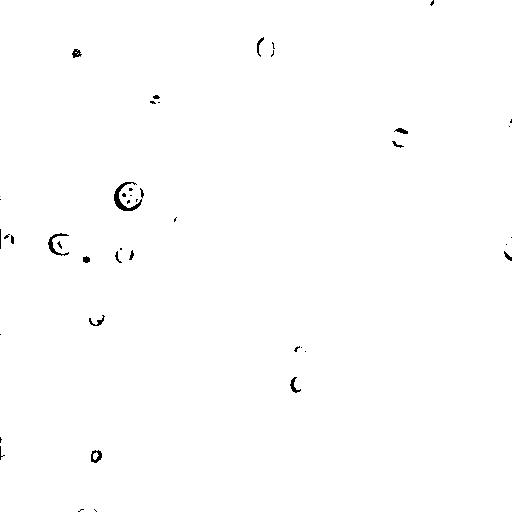micro-algae: (0, 281, 60, 341), (466, 18, 512, 71), (54, 29, 98, 77), (422, 32, 463, 73), (285, 339, 320, 369), (113, 181, 145, 211), (67, 244, 101, 272), (47, 233, 76, 258), (388, 126, 413, 149), (255, 35, 277, 60), (171, 208, 195, 229), (155, 1, 177, 23), (113, 244, 136, 264), (87, 306, 107, 327), (288, 373, 307, 393), (1, 231, 17, 253), (428, 0, 449, 16), (1, 435, 14, 457), (89, 447, 105, 464), (503, 235, 512, 260), (72, 505, 102, 512), (504, 115, 511, 139)
